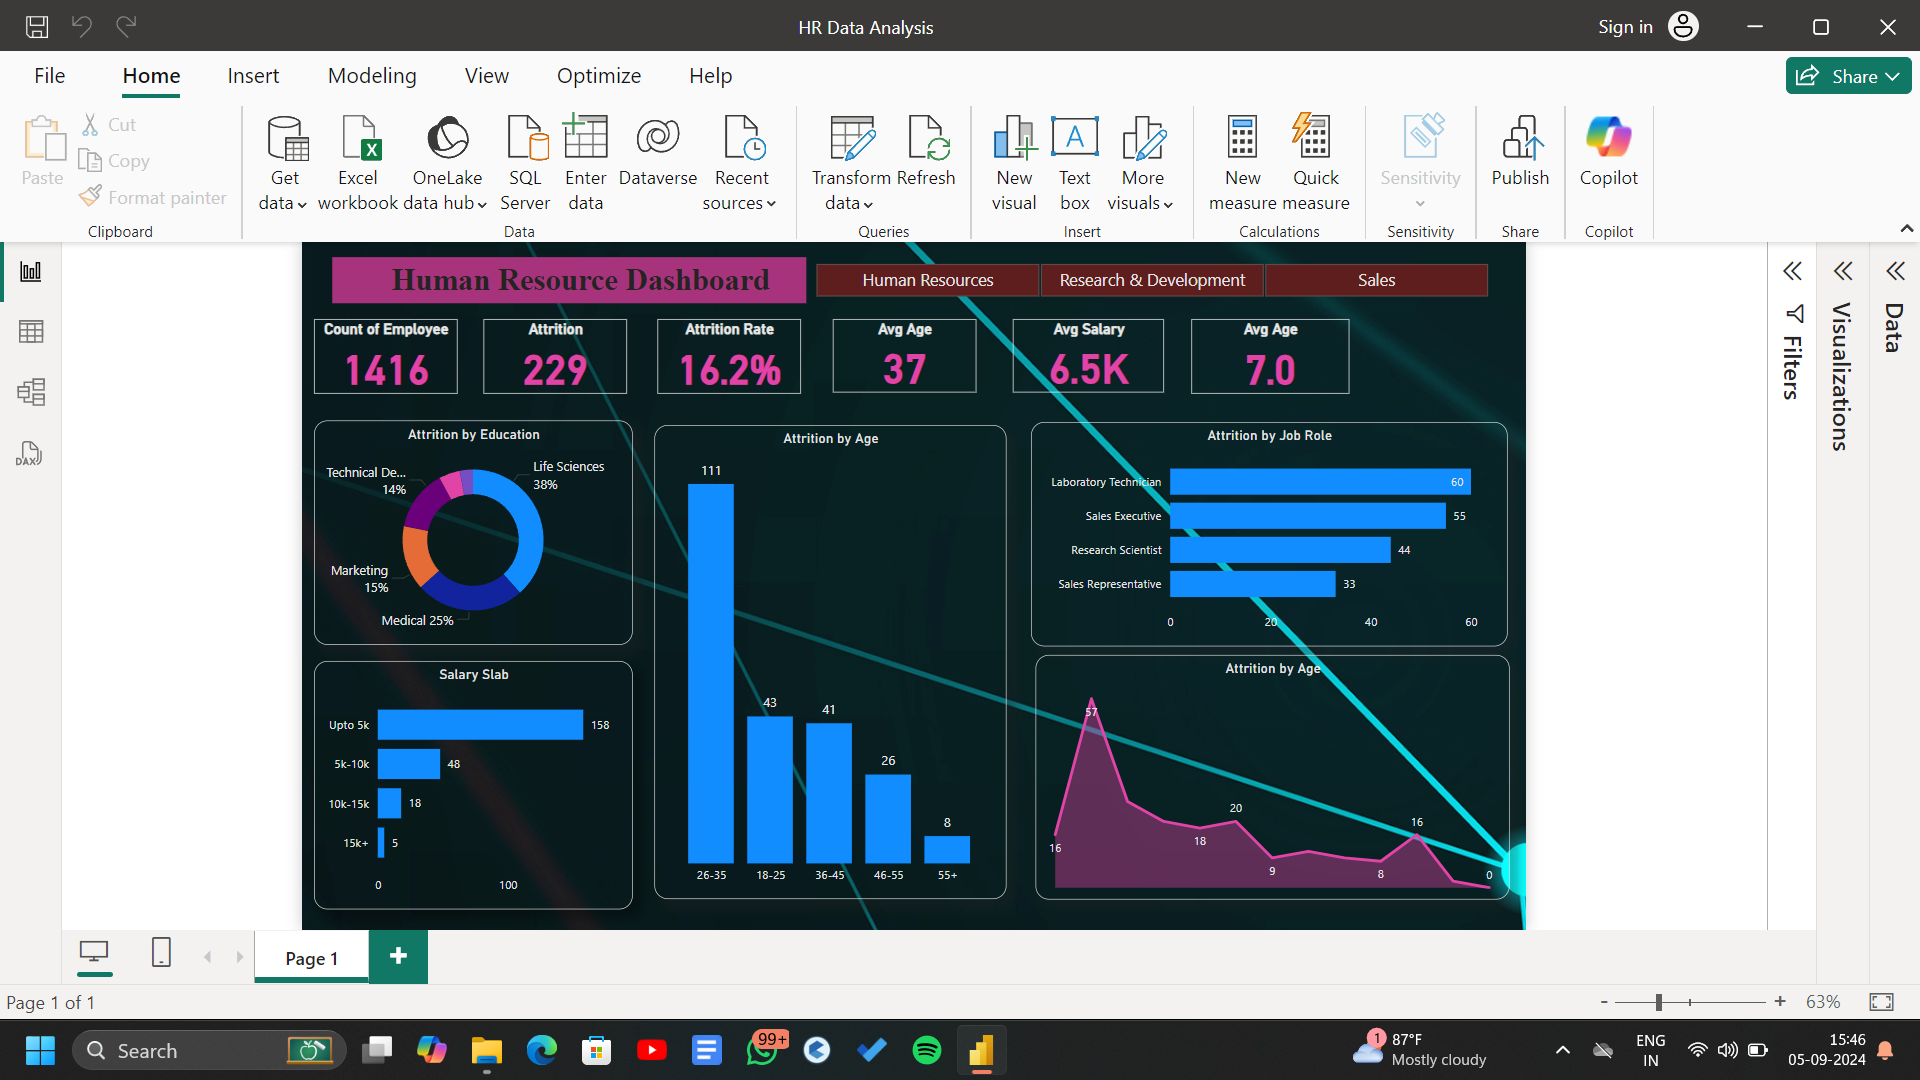

What the dashboard file says about the page in this screenshot:
{"tool":"powerbi","page":{"name":"Page 1","canvas":[1280,720],"ordinal":0},"visuals":[{"type":"card","title":"Count of Employee","fields":{"Values":["CountNonNull(HR_Analytics.EmpID)"]},"box":[13.3,80,150,78.3],"z":0},{"type":"card","title":"Attrition  ","fields":{"Values":["Sum(HR_Analytics.AttritionCount)"]},"box":[190,80,150,78.3],"z":1000},{"type":"card","title":"Attrition Rate","fields":{"Values":["HR_Analytics.AttritionRate"]},"box":[371.7,80,150,78.3],"z":2000},{"type":"card","title":"Avg Age","fields":{"Values":["HR_Analytics.AverageAge"]},"box":[555,80,150,76.7],"z":3000},{"type":"card","title":"Avg Salary","fields":{"Values":["Avg(HR_Analytics.MonthlyIncome)"]},"box":[743.3,80,158.3,76.7],"z":4000},{"type":"card","title":"Avg Age","fields":{"Values":["Avg(HR_Analytics.YearsAtCompany)"]},"box":[930,80,165,78.3],"z":5000},{"type":"donutChart","title":"Attrition  by Education","fields":{"Category":["HR_Analytics.EducationField"],"Y":["Sum(HR_Analytics.AttritionCount)"]},"box":[13.3,186.7,333.3,235],"z":5001},{"type":"columnChart","title":"Attrition  by Age","fields":{"Category":["HR_Analytics.AgeGroup"],"Y":["Sum(HR_Analytics.AttritionCount)"]},"box":[368,192,368,496],"z":5002},{"type":"clusteredBarChart","title":"Salary Slab","fields":{"Y":["Sum(HR_Analytics.AttritionCount)"],"Category":["HR_Analytics.SalarySlab"]},"box":[13.3,438.3,333.3,260],"z":5003},{"type":"clusteredBarChart","title":"Attrition  by Job Role","fields":{"Category":["HR_Analytics.JobRole"],"Y":["Sum(HR_Analytics.AttritionCount)"]},"box":[763.3,188.3,498.3,235],"z":5004},{"type":"areaChart","title":"Attrition  by Age","fields":{"Category":["HR_Analytics.YearsAtCompany"],"Y":["Sum(HR_Analytics.AttritionCount)"]},"box":[768,432,496,256],"z":5005},{"type":"textbox","box":[32,16,496,48],"z":5006},{"type":"slicer","fields":{"Values":["HR_Analytics.Department"]},"box":[512,16,752,48],"z":5007}]}

Visuals, with their boxes on the page's 1280x720 design canvas (x1, y1, x2, y2). These are canvas units, not pixel positions in the 1920x1080 screenshot, which may show the page scaled, cropped or inside an application window:
"Count of Employee" card: box=[13, 80, 163, 158]
"Attrition  " card: box=[190, 80, 340, 158]
"Attrition Rate" card: box=[372, 80, 522, 158]
"Avg Age" card: box=[555, 80, 705, 157]
"Avg Salary" card: box=[743, 80, 902, 157]
"Avg Age" card: box=[930, 80, 1095, 158]
"Attrition  by Education" donutChart: box=[13, 187, 347, 422]
"Attrition  by Age" columnChart: box=[368, 192, 736, 688]
"Salary Slab" clusteredBarChart: box=[13, 438, 347, 698]
"Attrition  by Job Role" clusteredBarChart: box=[763, 188, 1262, 423]
"Attrition  by Age" areaChart: box=[768, 432, 1264, 688]
textbox: box=[32, 16, 528, 64]
slicer - HR_Analytics.Department: box=[512, 16, 1264, 64]
